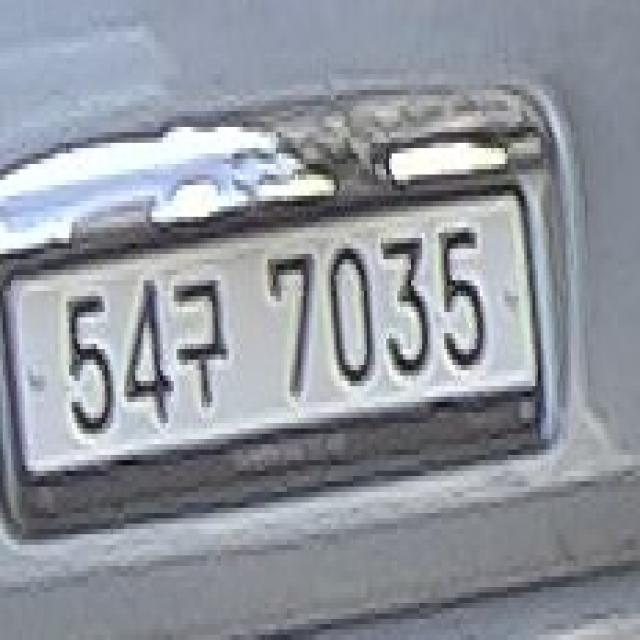0: (322, 233, 380, 402)
3: (375, 217, 439, 418)
4: (116, 264, 176, 450)
5: (433, 217, 491, 375), (69, 296, 119, 444)
7: (260, 233, 314, 418)
gu: (171, 259, 237, 418)
license_plate: (3, 180, 554, 550)
